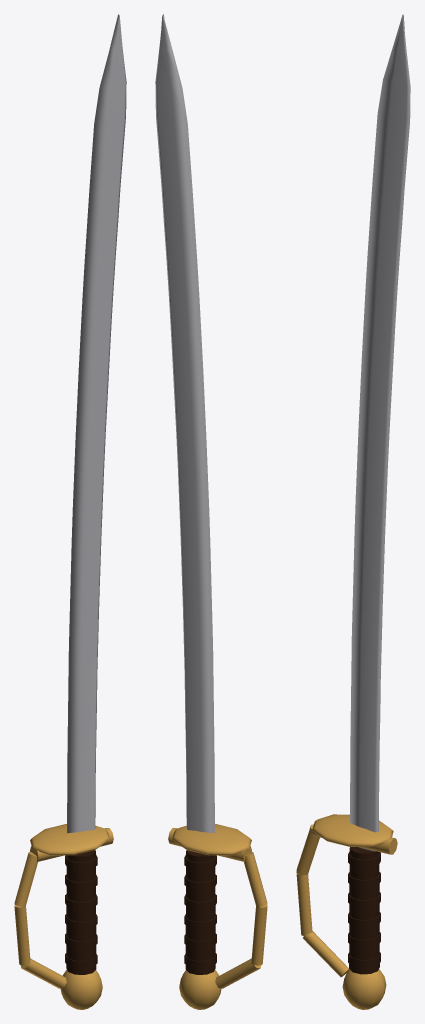
Rendered from SM_Art_Weapon_OfficerSaber.gltf.
The picture shows the model from 3 angles, left to right: view 1: azimuth 30°, elevation 25°; view 2: azimuth 150°, elevation 25°; view 3: azimuth 330°, elevation 25°; orthographic projection.
Parts seen in each view (by area): view 1: SM_Art_Weapon_OfficerSaber; view 2: SM_Art_Weapon_OfficerSaber; view 3: SM_Art_Weapon_OfficerSaber.
Part boxes in pixels (<box>): SM_Art_Weapon_OfficerSaber: <box>14,14,126,1009</box>; SM_Art_Weapon_OfficerSaber: <box>155,14,267,1009</box>; SM_Art_Weapon_OfficerSaber: <box>296,14,410,1009</box>.
Size of the model in its own units: 0.1191 by 1 by 0.0571.
